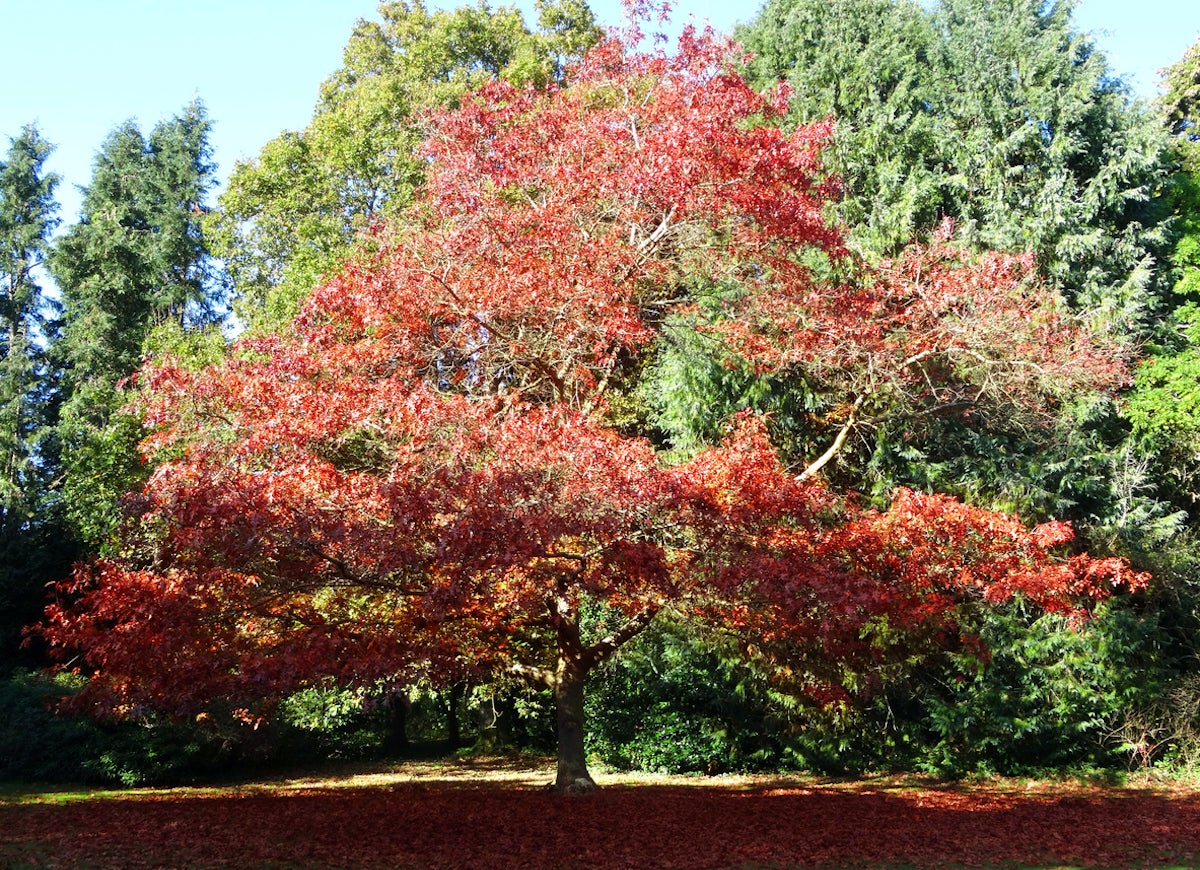tree: (539, 634, 597, 786)
